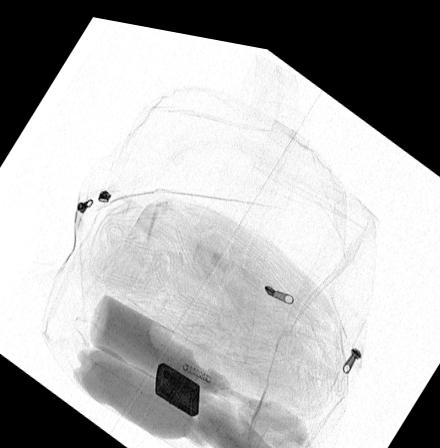Lighter: (155, 355, 200, 409)
